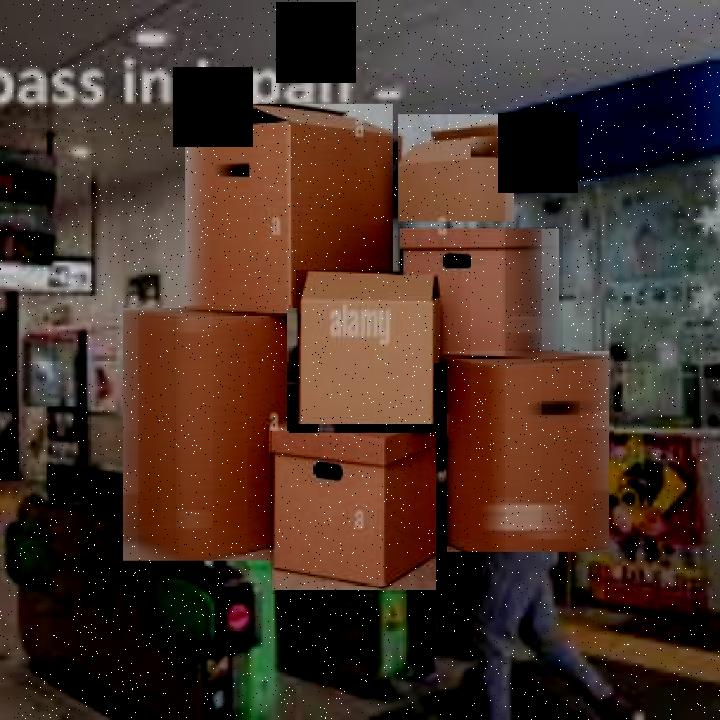box: (182, 102, 398, 312), (123, 305, 292, 566), (444, 352, 614, 558), (271, 431, 439, 594), (398, 227, 563, 367), (296, 270, 438, 428), (397, 114, 517, 224)
